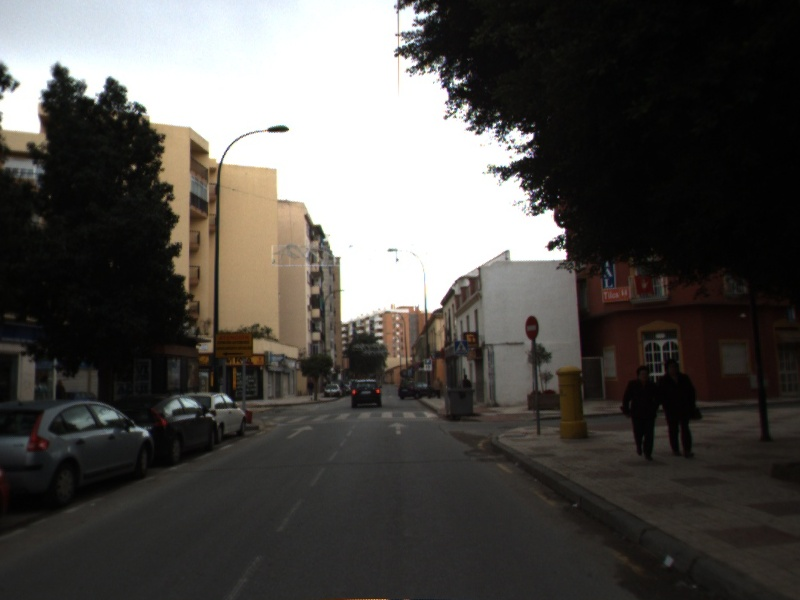STRAIGHT: (284, 423, 315, 441), (386, 420, 411, 437)
